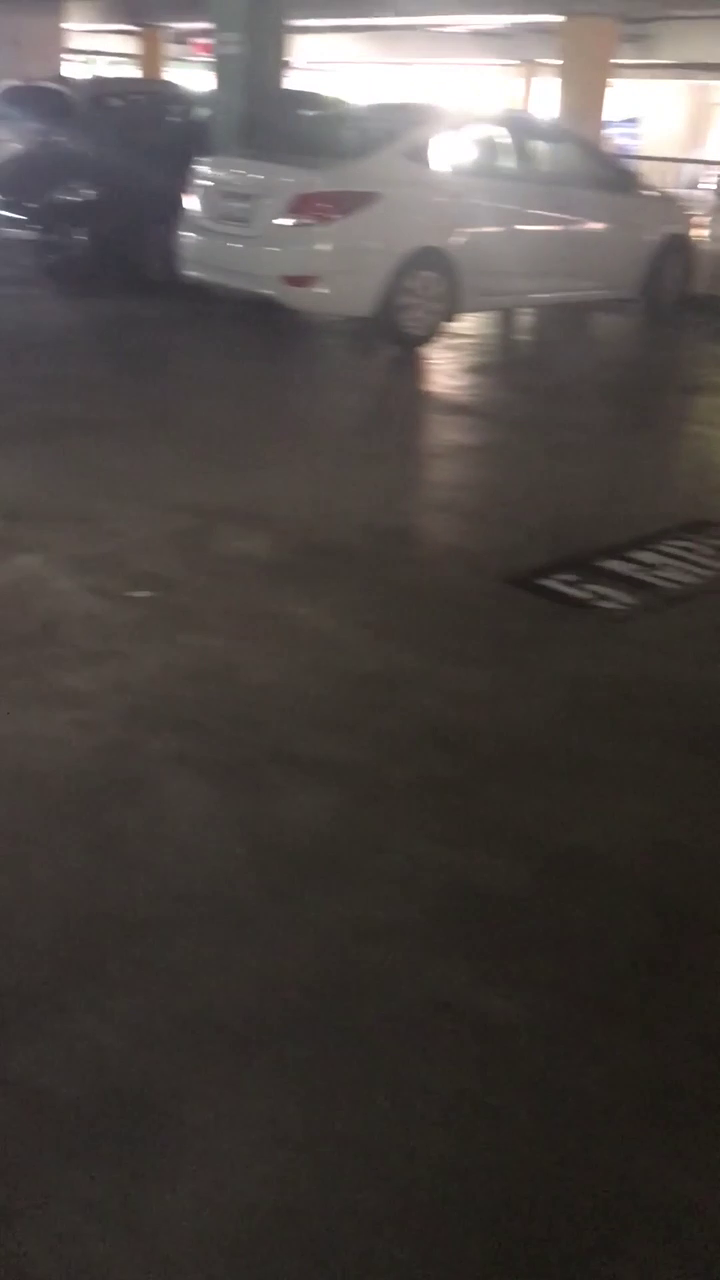car: (0, 66, 215, 294)
